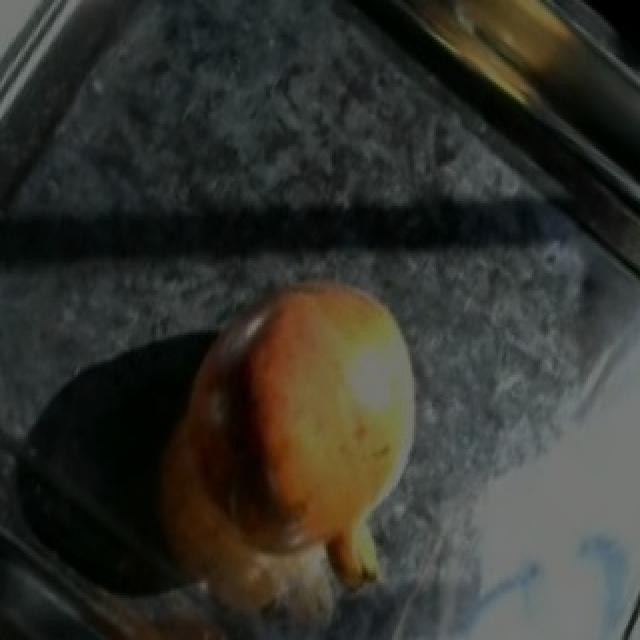fruit: (192, 248, 452, 491)
